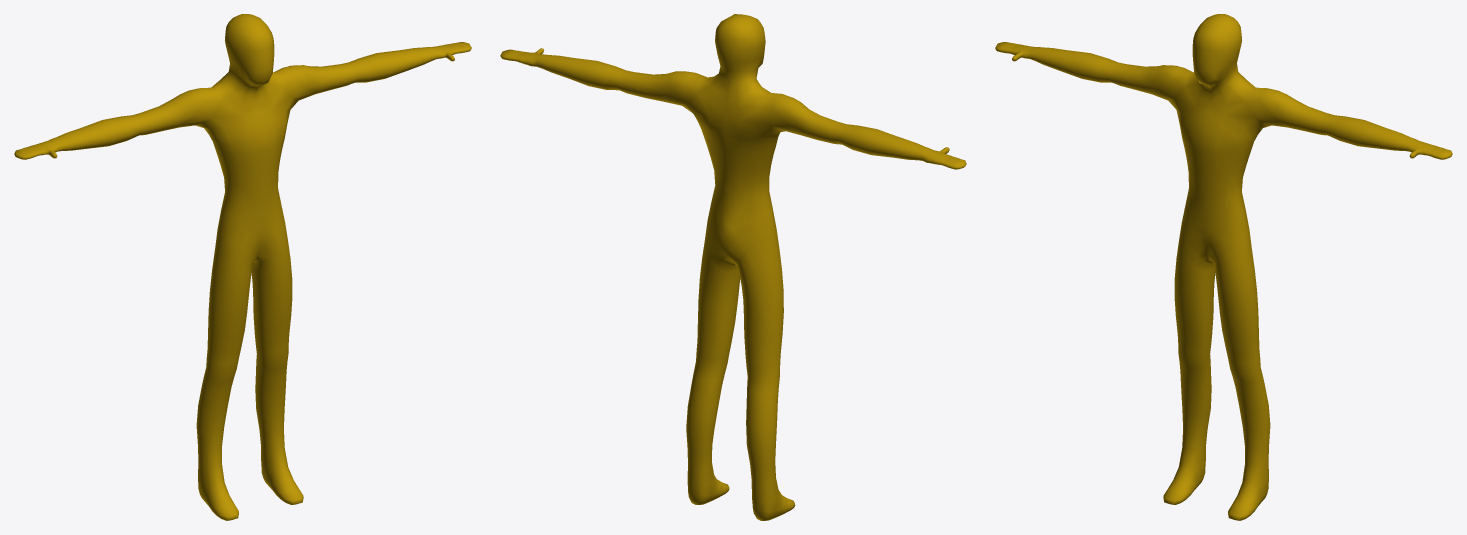
File: robot.dae
The picture shows the model from 3 angles, left to right: view 1: azimuth 30°, elevation 25°; view 2: azimuth 150°, elevation 25°; view 3: azimuth 330°, elevation 25°; orthographic projection.
Visible parts, largest first — view 1: Cube; view 2: Cube; view 3: Cube.
Boxes of the visible parts, x1,y1,x2,y2 form: Cube: (14,14,471,520); Cube: (500,14,966,520); Cube: (995,14,1452,520).
Size of the model in its own units: 1.82 by 0.2258 by 1.85.
Materials: 1 (1 with a texture image).
